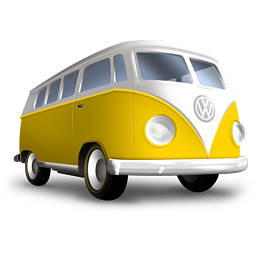car: (14, 39, 253, 203)
